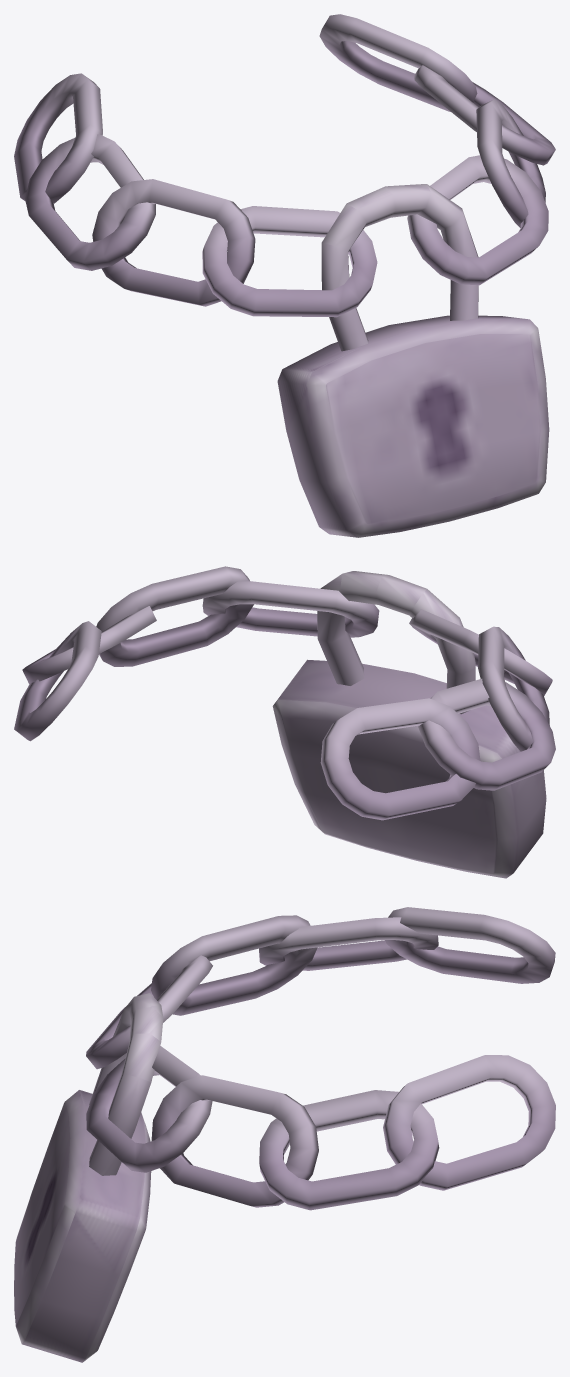
File: Lock.fbx
3 renders of one model, top to bottom at view 1: azimuth 30°, elevation 25°; view 2: azimuth 150°, elevation 25°; view 3: azimuth 270°, elevation 25°, orthographic. The views are drawn at different scales.
Visible parts, largest first — view 1: Lock; view 2: Lock; view 3: Lock.
Part boxes in pixels (<box>): Lock: <box>14,14,555,537</box>; Lock: <box>14,566,555,878</box>; Lock: <box>14,907,555,1362</box>.
Bounding box in the file's own units: 57.46 × 37.1 × 53.78.
